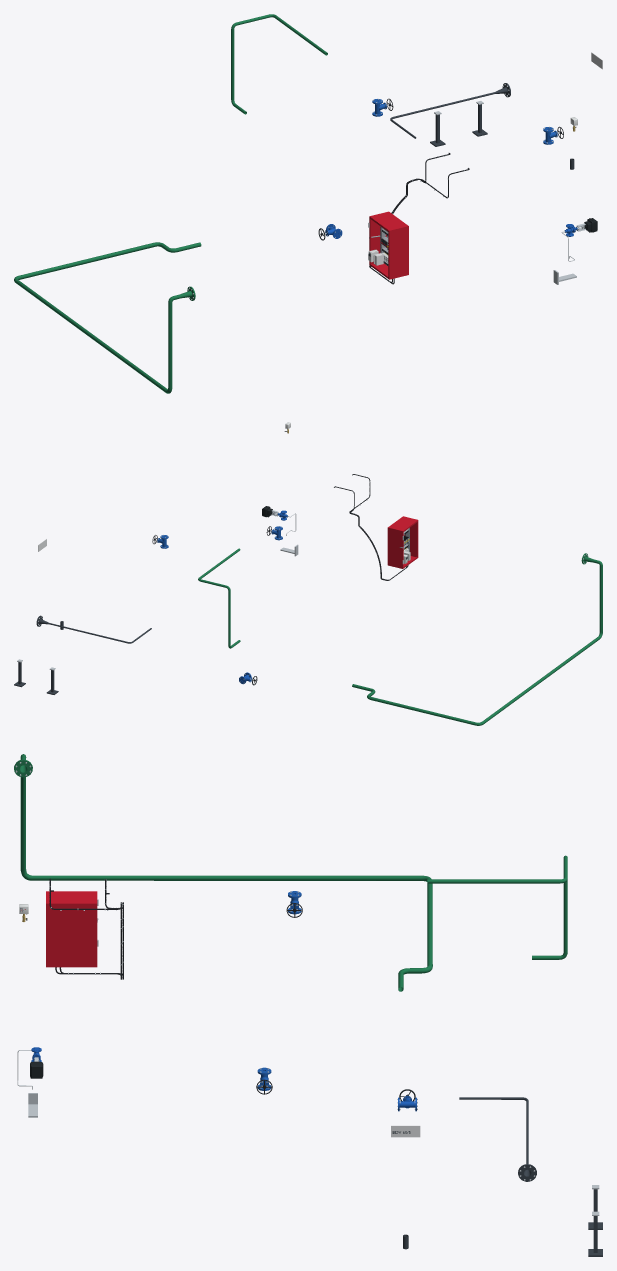
The picture shows the model from 3 angles, top to bottom: view 1: azimuth 30°, elevation 25°; view 2: azimuth 150°, elevation 25°; view 3: azimuth 270°, elevation 25°; orthographic projection. The views are drawn at different scales.
Parts seen in each view (by area): view 1: deaerator_feed / green, control_cabinet / control_cabinet_0.npz, from_economizer / green; view 2: deaerator_feed / green, control_cabinet / control_cabinet_0.npz, from_economizer / green; view 3: deaerator_feed / green, control_cabinet / control_cabinet_0.npz, from_economizer / green, tds_to_fv / dark.
Part boxes in pixels (x1=…): deaerator_feed / green: x1=14, y1=242, x2=201, y2=393; control_cabinet / control_cabinet_0.npz: x1=368, y1=211, x2=408, y2=279; from_economizer / green: x1=231, y1=14, x2=327, y2=114; deaerator_feed / green: x1=352, y1=553, x2=602, y2=725; control_cabinet / control_cabinet_0.npz: x1=387, y1=516, x2=418, y2=568; from_economizer / green: x1=198, y1=548, x2=240, y2=648; deaerator_feed / green: x1=14, y1=754, x2=432, y2=991; control_cabinet / control_cabinet_0.npz: x1=46, y1=891, x2=98, y2=967; from_economizer / green: x1=427, y1=855, x2=567, y2=959; tds_to_fv / dark: x1=459, y1=1097, x2=536, y2=1181.
Size of the model in its own units: 8.87 by 3.04 by 6.05.
